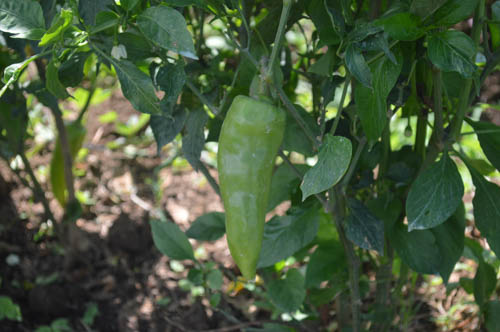ChiliPepper: (218, 93, 281, 284)
